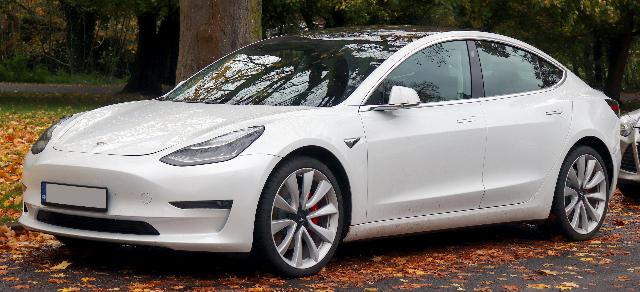tesla: (18, 25, 622, 277)
